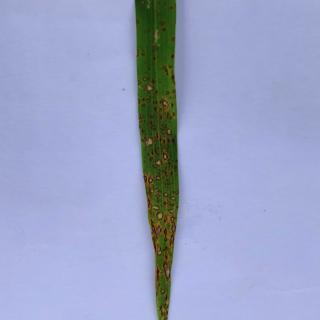Blast: (166, 214, 176, 246), (162, 259, 171, 280), (142, 174, 154, 186), (160, 98, 172, 108), (144, 138, 154, 148), (160, 152, 170, 162), (152, 159, 162, 168), (156, 210, 164, 221), (145, 84, 155, 92)
